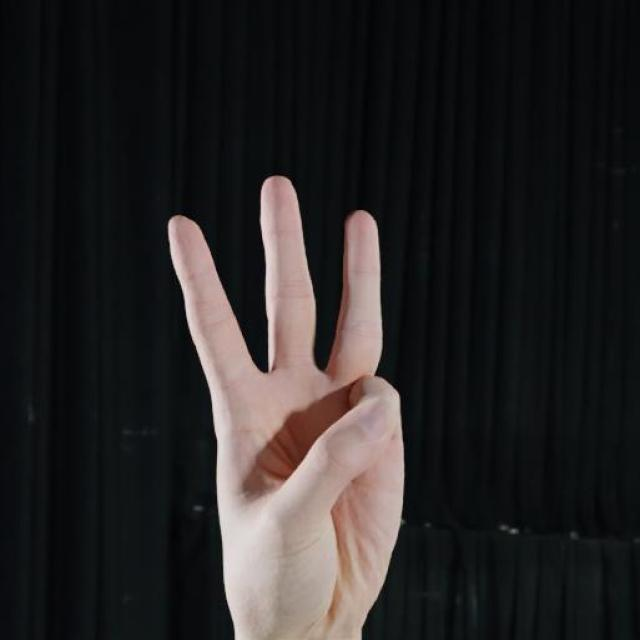W: (165, 171, 409, 640)
